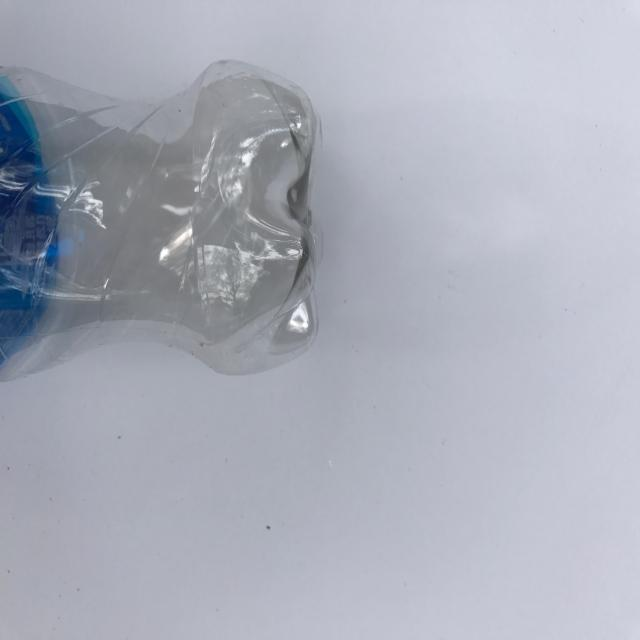plastic: (0, 58, 321, 394)
